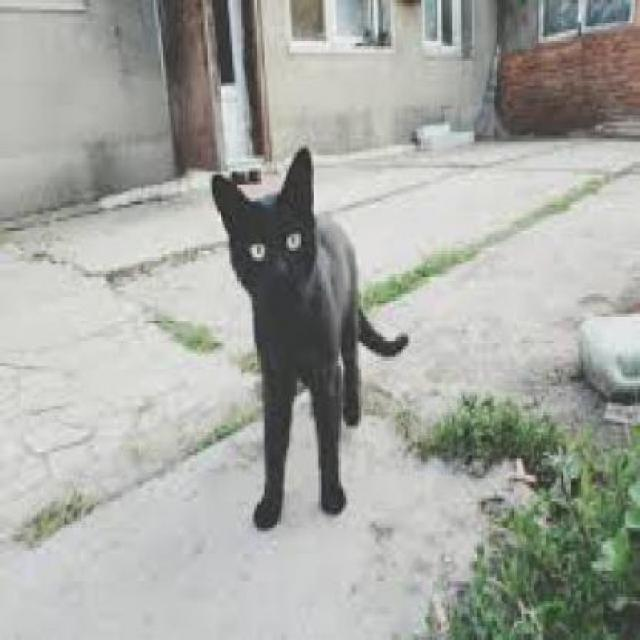animals: (202, 136, 418, 542)
